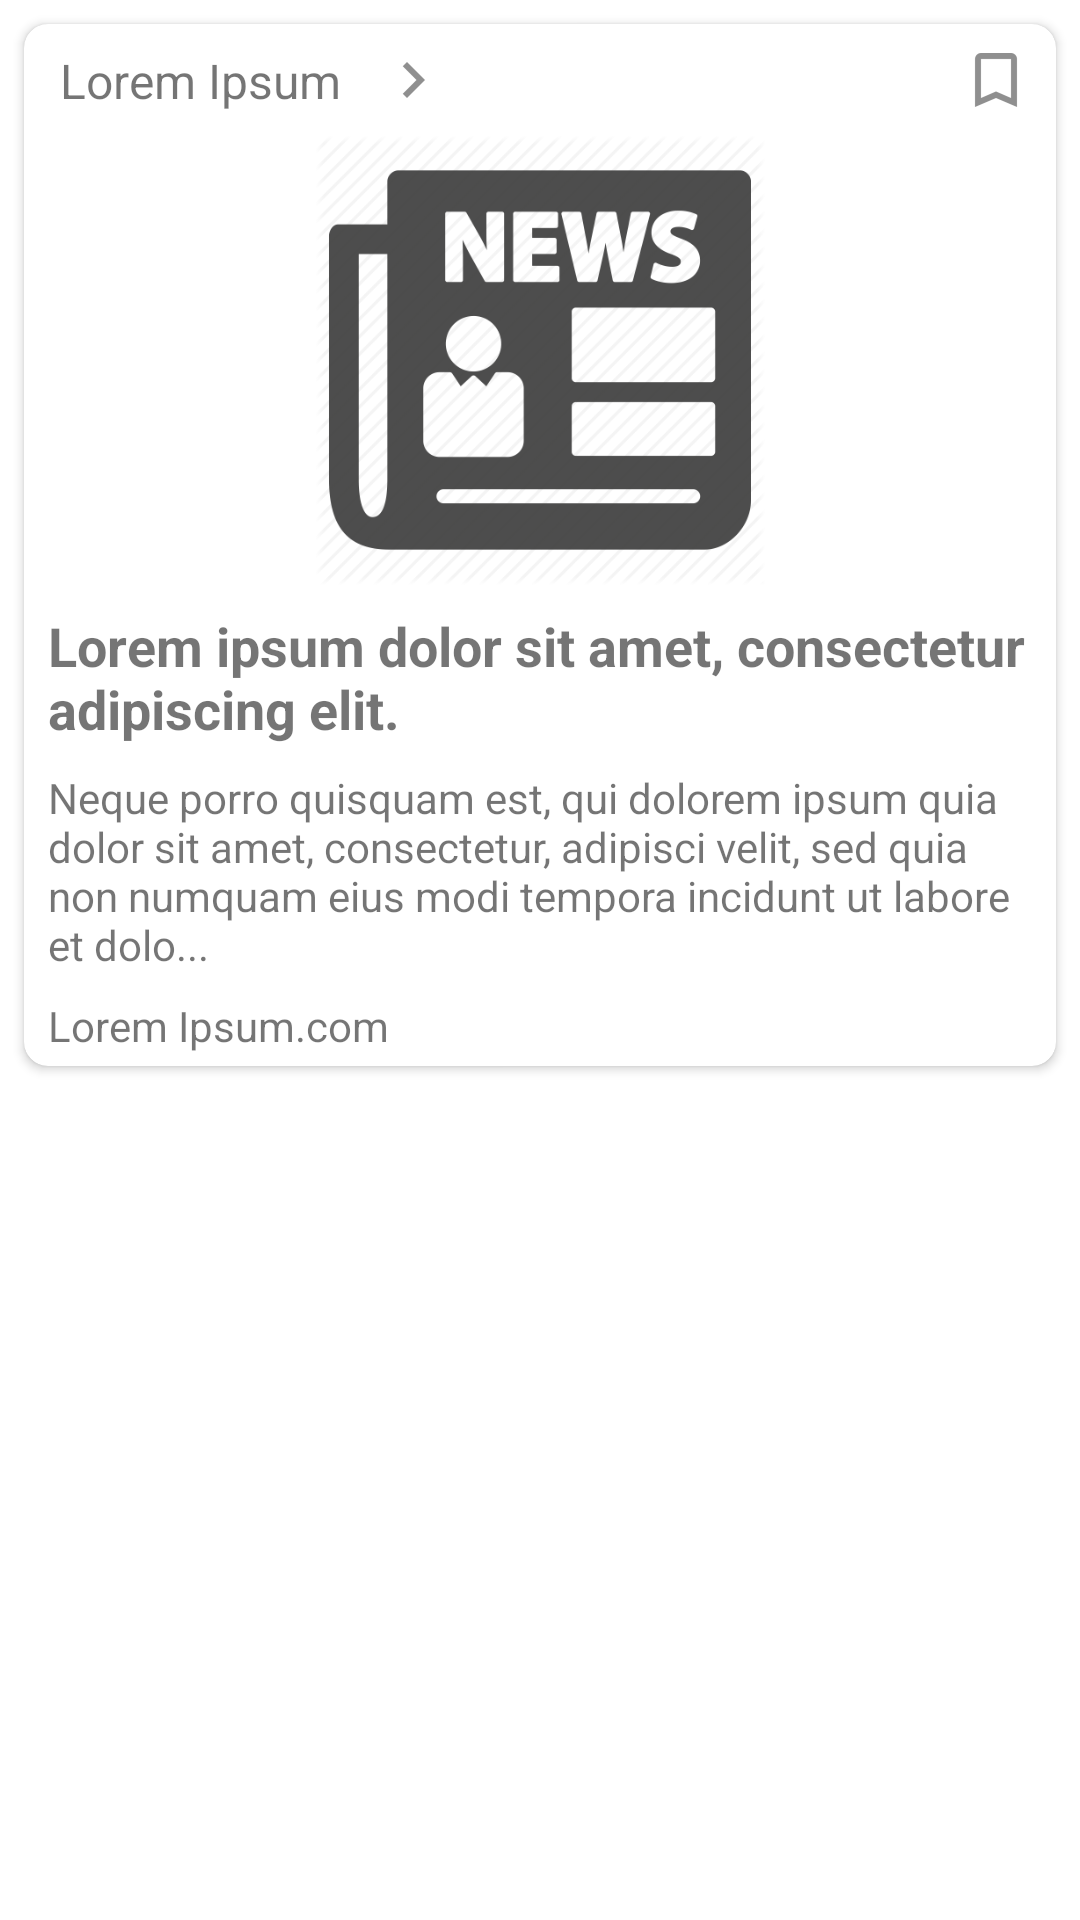

Icon bounding boxes for this 1080 × 1920 phone screenshot, format [x1, y1, x2, y2]:
bookmark: [975, 53, 1017, 107]
feeds more details: [403, 62, 425, 98]
